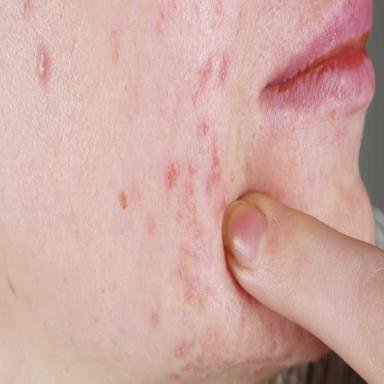acne: (206, 141, 221, 192), (199, 57, 211, 90), (37, 46, 48, 80), (167, 161, 179, 187), (219, 189, 229, 217), (219, 53, 228, 83), (175, 343, 187, 358), (188, 160, 197, 176)
